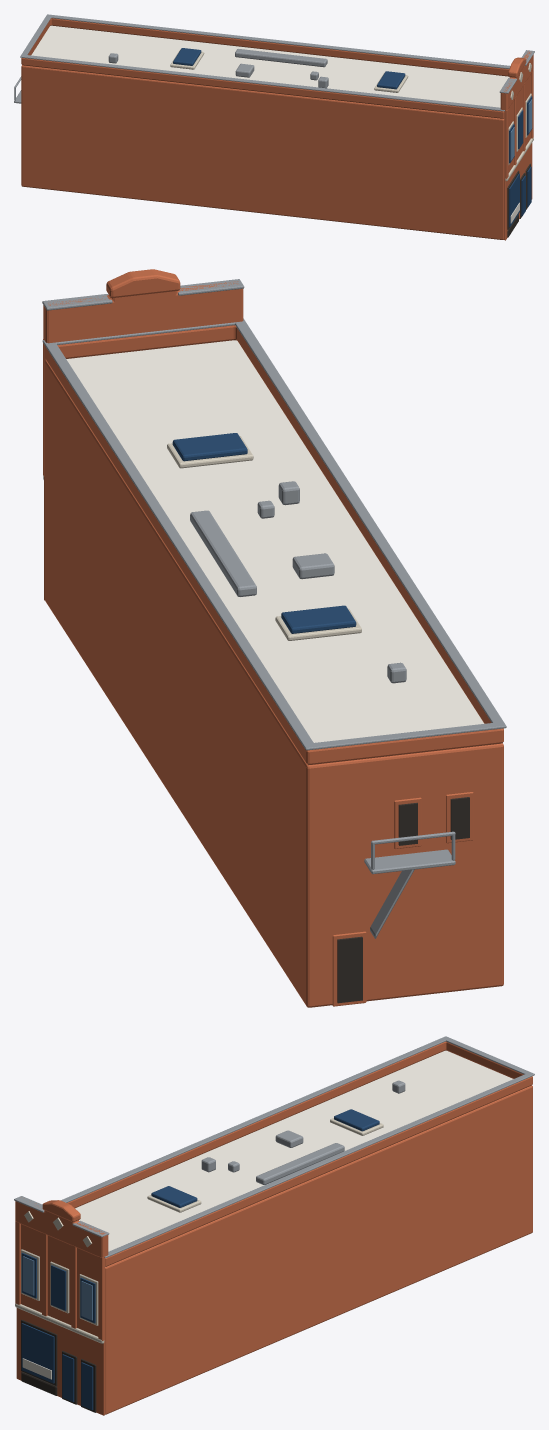
The model's file is 168-south-park.glb.
3 renders of one model, top to bottom at view 1: azimuth 30°, elevation 25°; view 2: azimuth 150°, elevation 25°; view 3: azimuth 270°, elevation 25°, orthographic. The views are drawn at different scales.
Parts seen in each view (by area): view 1: body, parapet, parapet_coping, front_skin, duct, parapet_front, shop_fill, skylight0, skylight1, pier0; view 2: body, parapet_coping, parapet, parapet_front, duct, rdoor_fill, parapet_crown, skylight0, skylight1, fe_landing, rdoor_frame, roof_hatch; view 3: body, parapet, front_skin, parapet_coping, parapet_front, shop_fill, duct, win1_fill, skylight0, skylight1, pier3, doorB_fill (+8 smaller).
Part boxes in pixels (<box>): body: <box>21,25,509,239</box>; parapet: <box>21,18,509,118</box>; parapet_coping: <box>20,14,510,111</box>; front_skin: <box>504,74,532,240</box>; duct: <box>235,49,327,67</box>; parapet_front: <box>500,50,533,110</box>; shop_fill: <box>509,173,519,227</box>; skylight0: <box>377,71,405,89</box>; skylight1: <box>173,48,201,65</box>; pier0: <box>504,109,508,178</box>; body: <box>45,340,503,1007</box>; parapet_coping: <box>42,318,506,750</box>; parapet: <box>45,325,503,764</box>; parapet_front: <box>43,281,243,343</box>; duct: <box>190,510,256,596</box>; rdoor_fill: <box>337,936,362,1003</box>; parapet_crown: <box>106,269,180,297</box>; skylight0: <box>172,433,247,461</box>; skylight1: <box>281,605,356,633</box>; fe_landing: <box>364,849,455,874</box>; rdoor_frame: <box>332,931,366,1006</box>; roof_hatch: <box>292,553,334,579</box>; body: <box>75,1050,532,1414</box>; parapet: <box>67,1041,532,1266</box>; front_skin: <box>16,1224,104,1415</box>; parapet_coping: <box>61,1036,534,1258</box>; parapet_front: <box>15,1201,108,1257</box>; shop_fill: <box>21,1323,54,1383</box>; duct: <box>256,1143,344,1184</box>; win1_fill: <box>51,1265,66,1310</box>; skylight0: <box>151,1186,197,1207</box>; skylight1: <box>334,1109,379,1131</box>; pier3: <box>98,1256,104,1340</box>; doorB_fill: <box>81,1362,93,1410</box>.
Bounding box in the file's own units: 25.7 × 10.44 × 25.5.
